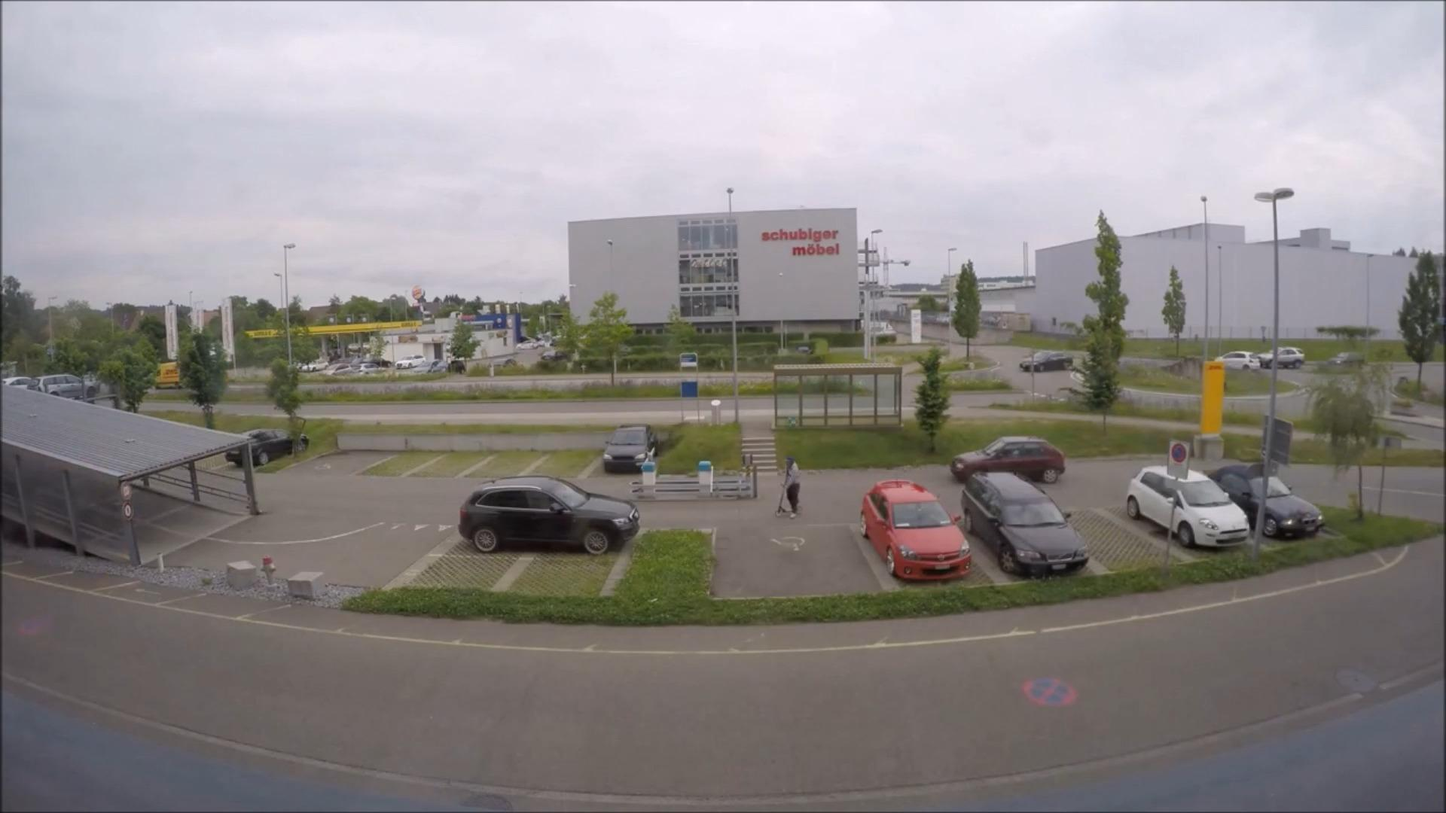occupied: (456, 474, 642, 556), (963, 471, 1092, 576), (859, 480, 966, 580), (1124, 465, 1249, 549), (951, 436, 1066, 485), (601, 424, 658, 473), (32, 373, 91, 400), (1018, 350, 1074, 373), (1254, 347, 1304, 369), (1321, 352, 1366, 367), (396, 355, 430, 370), (356, 359, 392, 371), (517, 338, 549, 350), (297, 360, 327, 372), (3, 377, 33, 388), (327, 363, 357, 374), (541, 350, 568, 361)
